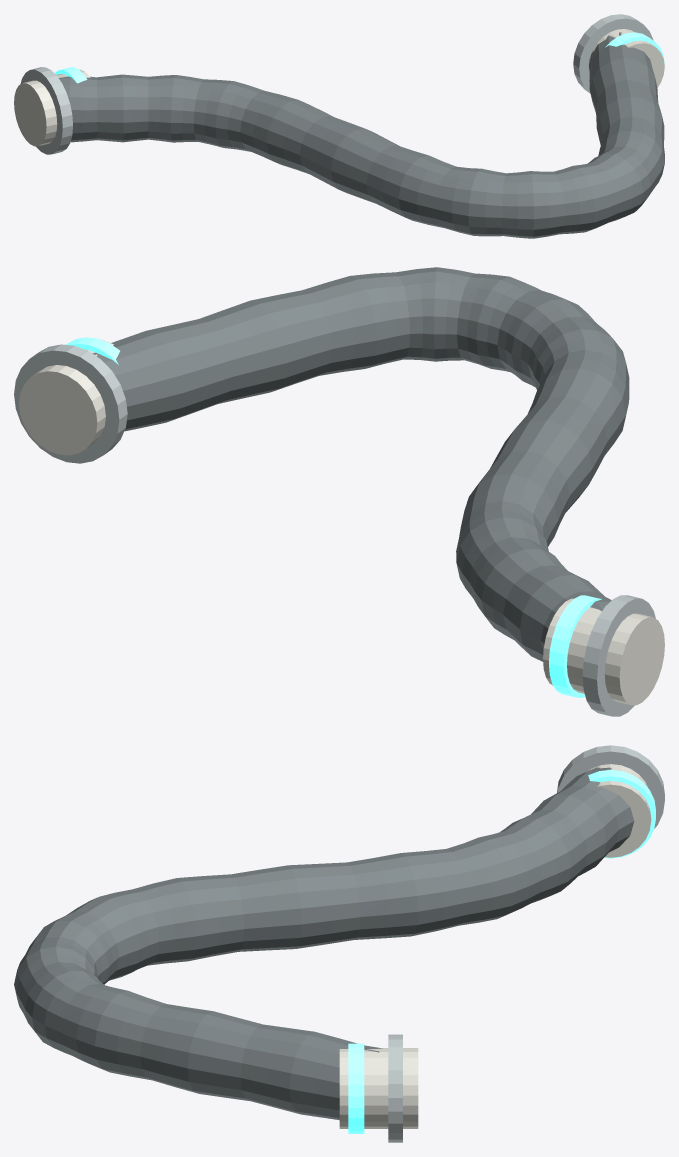
The model's file is s7-i03-hose-u-bend.glb.
3 renders of one model, top to bottom at view 1: azimuth 30°, elevation 25°; view 2: azimuth 150°, elevation 25°; view 3: azimuth 270°, elevation 25°, orthographic. The views are drawn at different scales.
Parts seen in each view (by area): view 1: 000_actual_curved_hose_swept_3d, 001_end_0_sealing_socket, 003_end_0_locking_collar, 006_end_1_locking_collar, 004_end_1_sealing_socket, 005_end_1_cyan_snap_seal; view 2: 000_actual_curved_hose_swept_3d, 001_end_0_sealing_socket, 004_end_1_sealing_socket, 006_end_1_locking_collar, 003_end_0_locking_collar, 002_end_0_cyan_snap_seal; view 3: 000_actual_curved_hose_swept_3d, 004_end_1_sealing_socket, 003_end_0_locking_collar, 001_end_0_sealing_socket, 006_end_1_locking_collar, 005_end_1_cyan_snap_seal, 002_end_0_cyan_snap_seal.
Part boxes in pixels (x1,y1,x2,y2): 000_actual_curved_hose_swept_3d: (59, 32, 664, 238); 001_end_0_sealing_socket: (14, 69, 90, 146); 003_end_0_locking_collar: (20, 67, 72, 154); 006_end_1_locking_collar: (573, 14, 653, 93); 004_end_1_sealing_socket: (589, 29, 664, 87); 005_end_1_cyan_snap_seal: (605, 32, 664, 63); 000_actual_curved_hose_swept_3d: (92, 267, 629, 661); 001_end_0_sealing_socket: (543, 598, 664, 705); 004_end_1_sealing_socket: (19, 339, 113, 455); 006_end_1_locking_collar: (14, 344, 127, 463); 003_end_0_locking_collar: (582, 595, 655, 716); 002_end_0_cyan_snap_seal: (549, 595, 601, 697); 000_actual_curved_hose_swept_3d: (14, 767, 634, 1120); 004_end_1_sealing_socket: (339, 1048, 418, 1128); 003_end_0_locking_collar: (557, 745, 664, 828); 001_end_0_sealing_socket: (587, 764, 651, 857); 006_end_1_locking_collar: (388, 1034, 402, 1142); 005_end_1_cyan_snap_seal: (348, 1043, 364, 1133); 002_end_0_cyan_snap_seal: (588, 769, 655, 858).
Bounding box in the file's own units: 0.6607 × 0.0935 × 0.5616.
